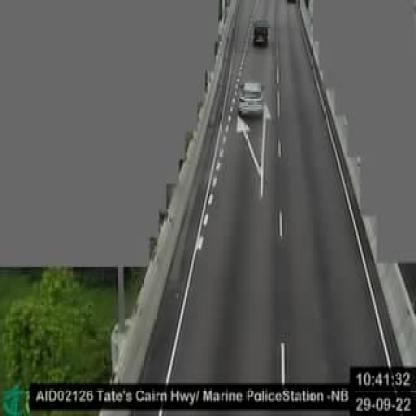Car: (233, 76, 269, 128), (251, 12, 274, 49)
